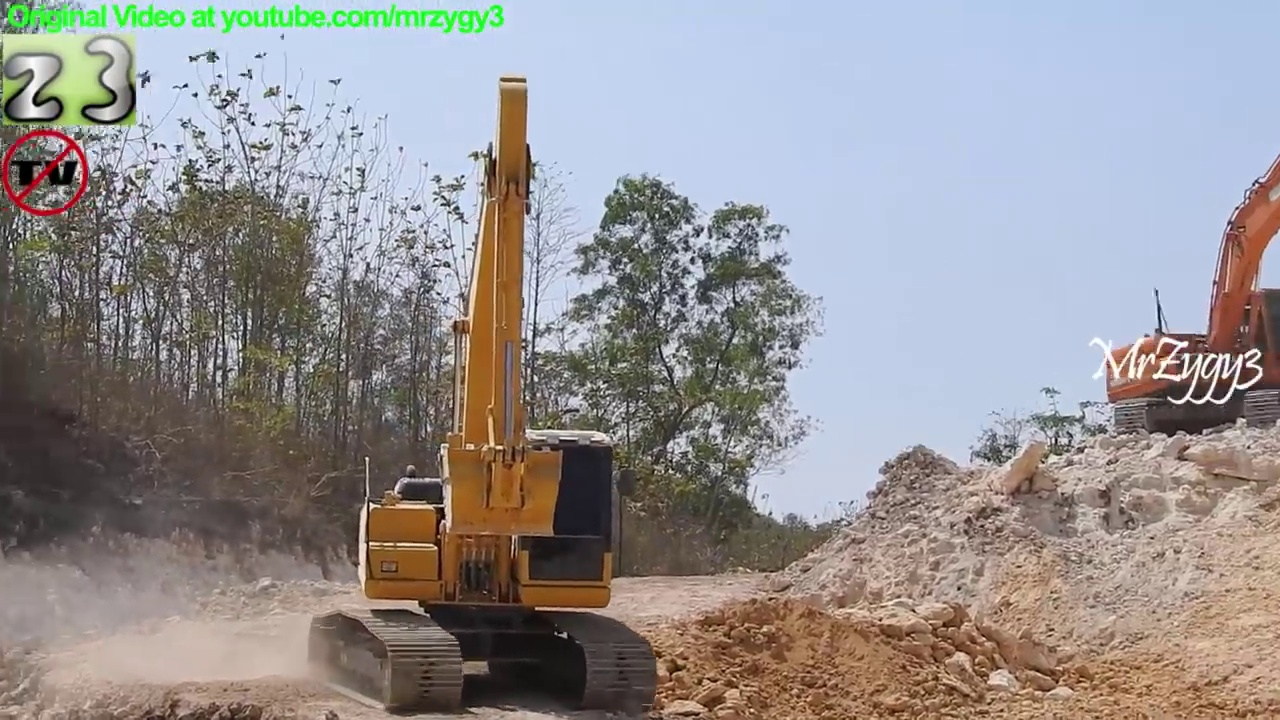excavator: (300, 65, 666, 720), (1096, 144, 1280, 444)
